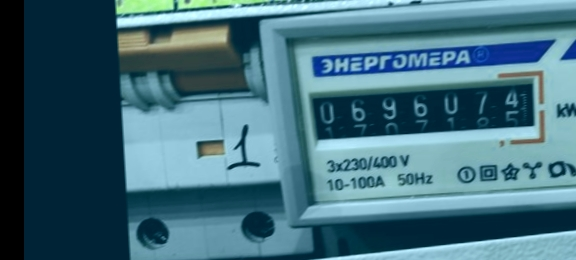0: (314, 98, 334, 124), (440, 88, 458, 114)
4: (501, 83, 519, 108)
5: (503, 107, 519, 126)
6: (347, 94, 367, 122), (409, 91, 427, 116)
7: (469, 87, 489, 114)
9: (377, 93, 397, 119)
screen: (295, 63, 551, 159)
